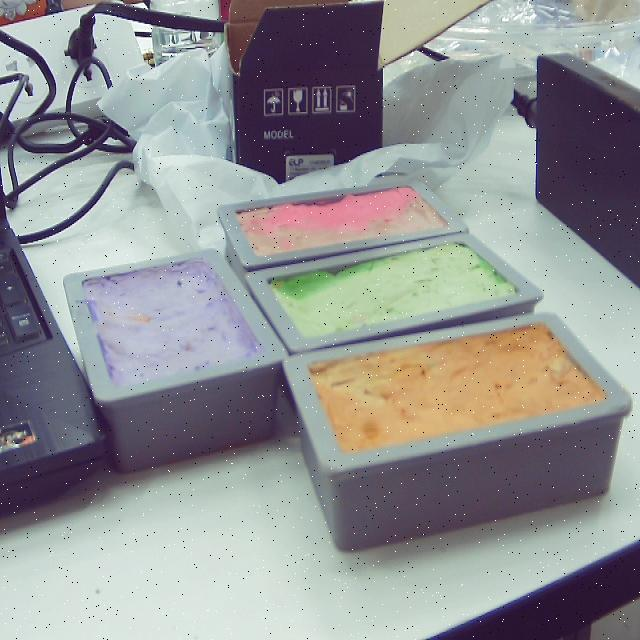block: (284, 308, 634, 550), (61, 248, 289, 473), (236, 232, 540, 359), (217, 179, 470, 273)
